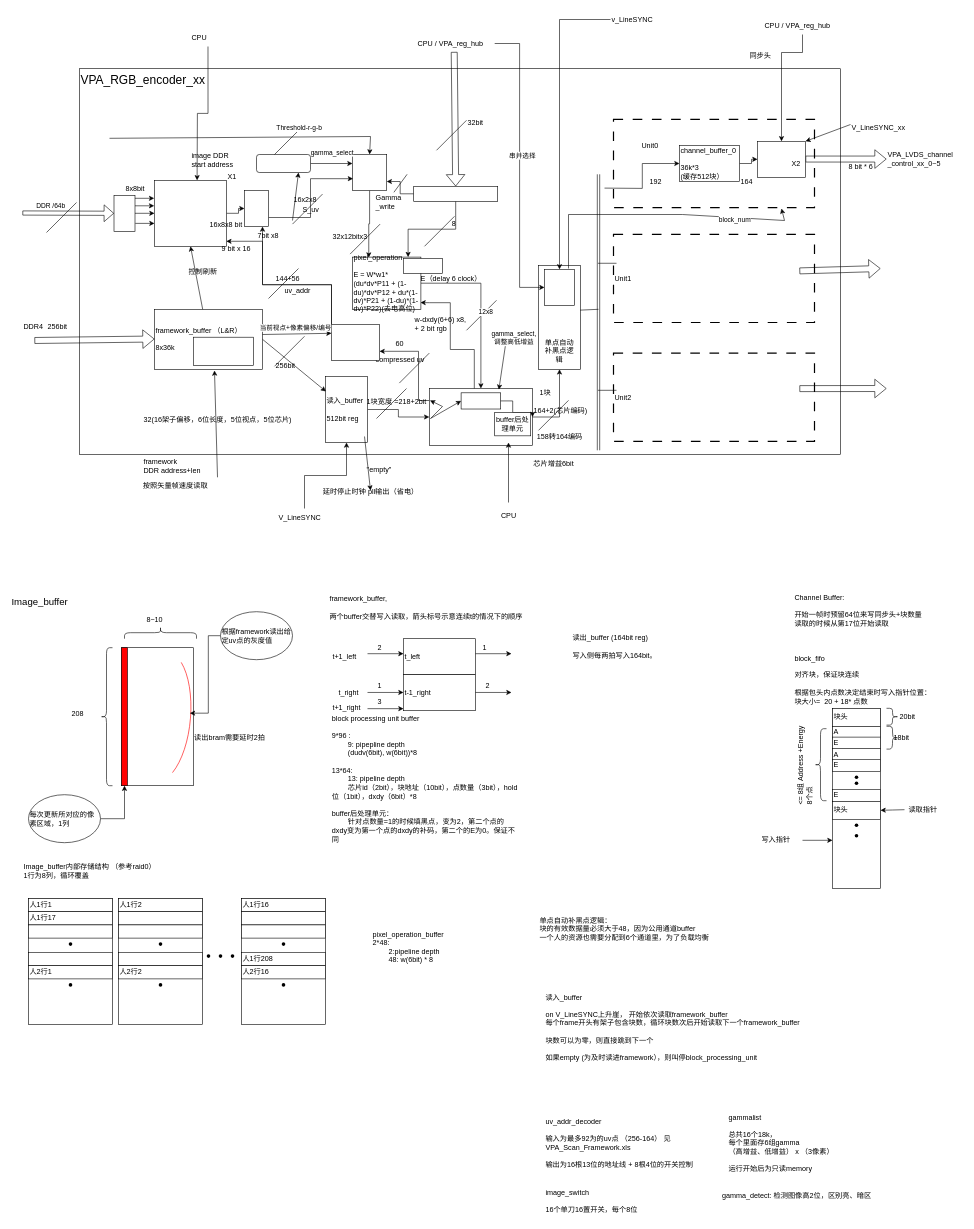
This 974x1229 diagram has some shape labels left out. Here are the shapes that lost their labels. From the top down, the box of each, then its label:
(256, 154, 310, 172): gamma_detect
(352, 154, 387, 190): gammalist_buffer 32x18k
(757, 141, 806, 177): channel_switch 串行对齐，删除块之间空位
(113, 195, 135, 231): image_ distributor
(154, 180, 226, 246): image_buffer 16 x 36k
(244, 190, 268, 226): image_ switch
(413, 186, 498, 201): W(0-43)， Gamma_list
(403, 258, 442, 273): buffer
(544, 269, 574, 305): block_ counter
(538, 265, 580, 369): 读出_buffer 164bit reg
(193, 337, 254, 365): 支持架子复用
(331, 324, 380, 360): uv_addr_decoder
(460, 392, 501, 409): buffer(见附录）
(429, 388, 532, 446): block_ processing_unit
